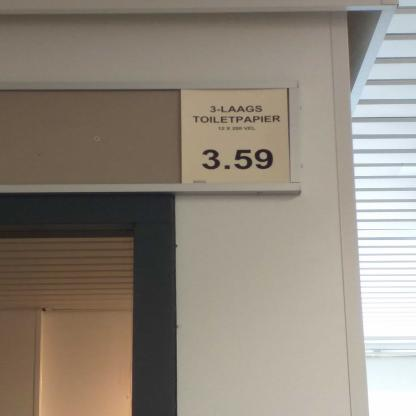prtg: (181, 90, 292, 186)
